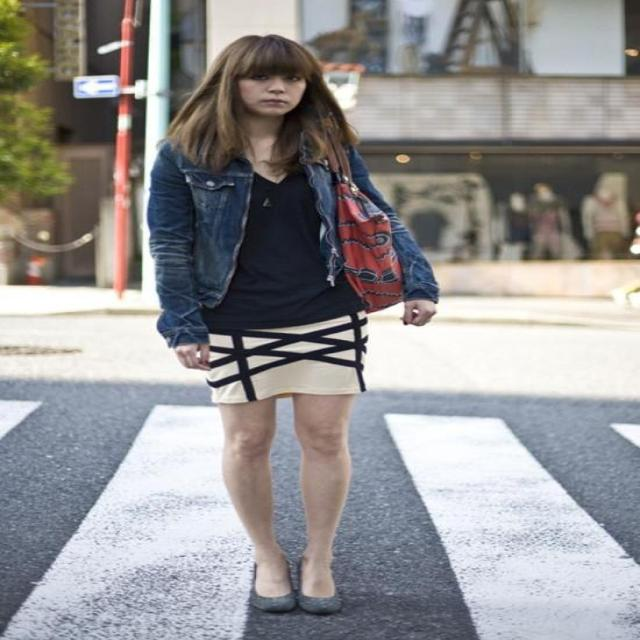skirt: (200, 308, 370, 406)
sweater: (146, 134, 438, 348)
